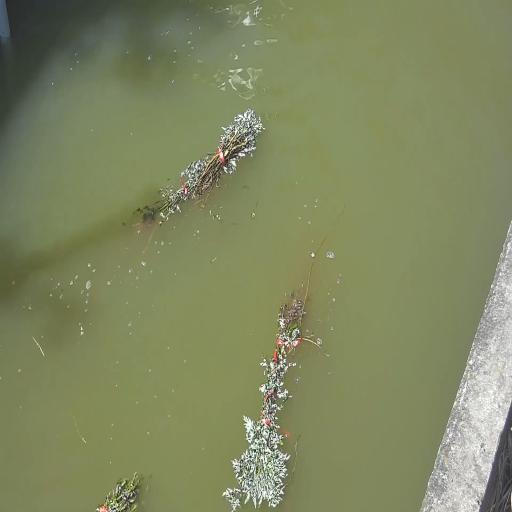twig: (223, 203, 346, 511), (135, 108, 264, 226), (96, 473, 141, 511)
